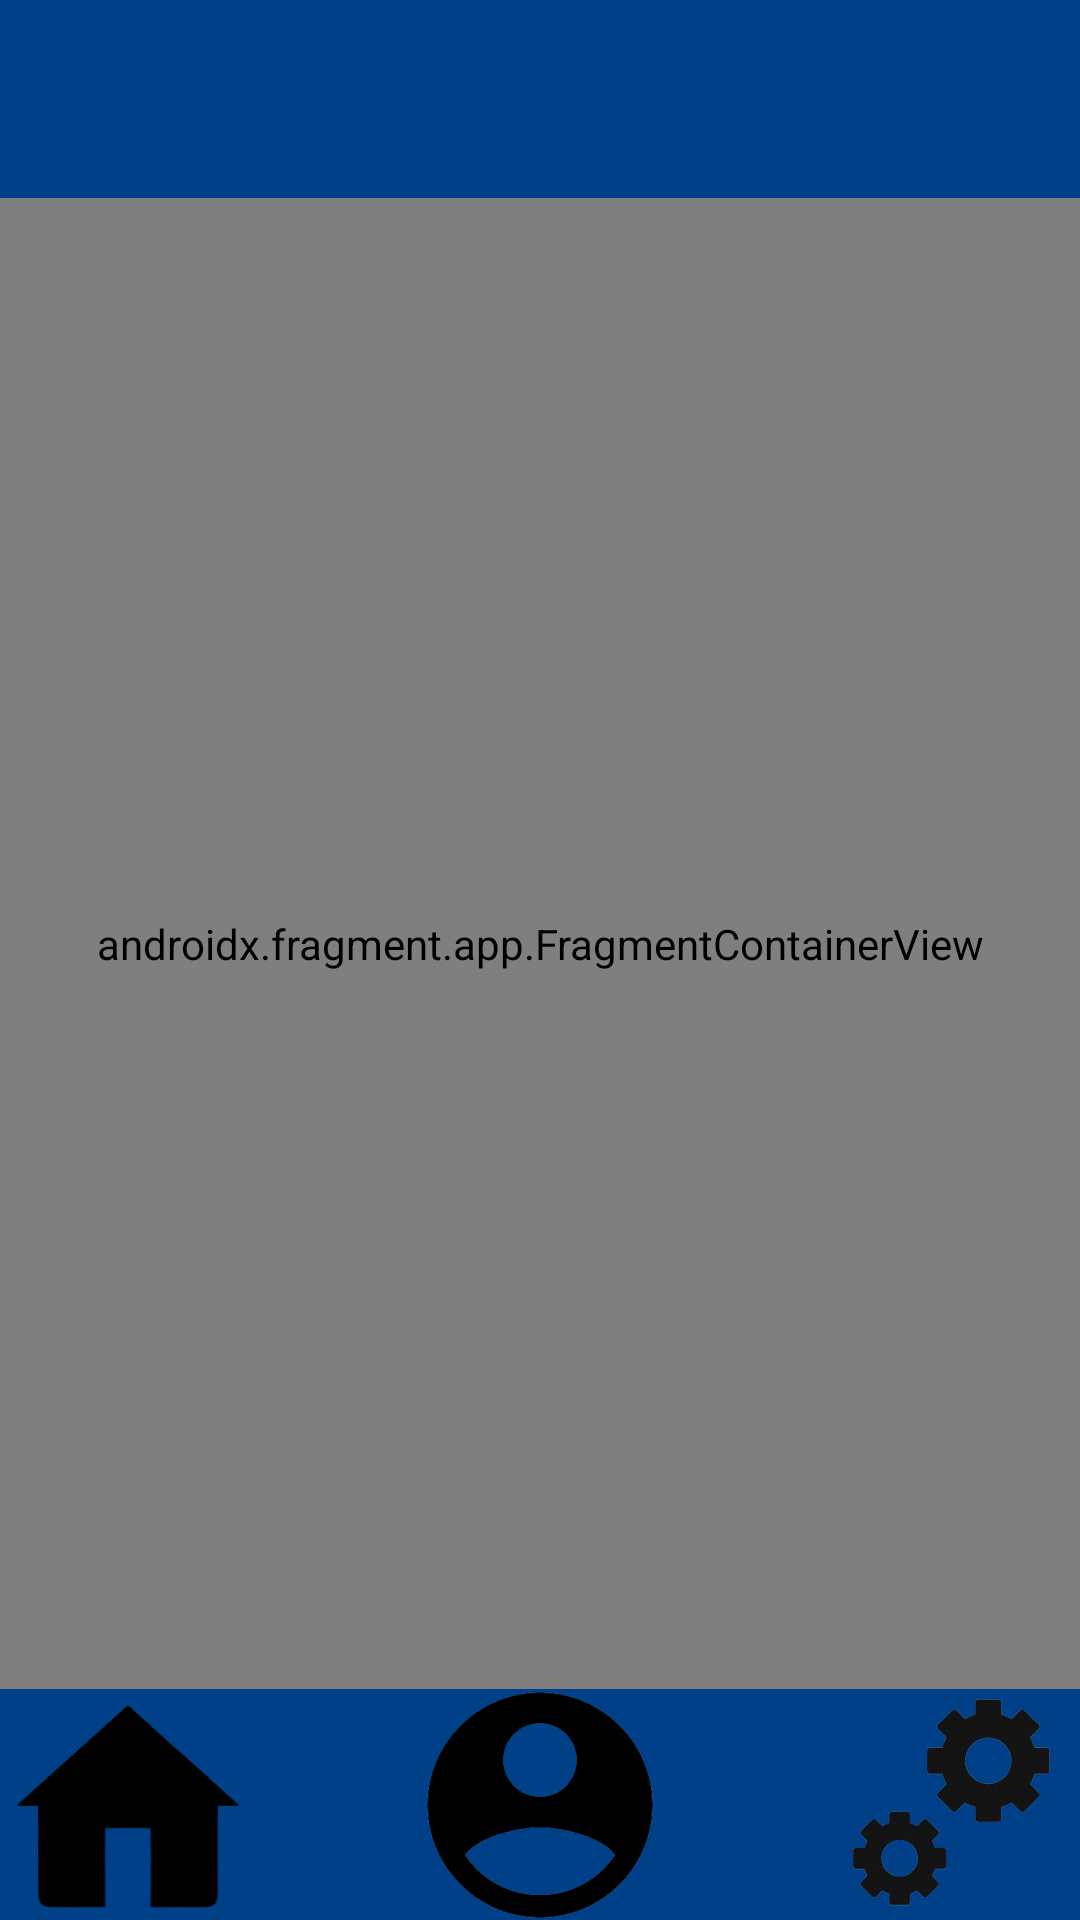

Named icons in this screenshot (1080×1920) and their centers, point (x, y):
user profile compuail: point (540, 1805)
